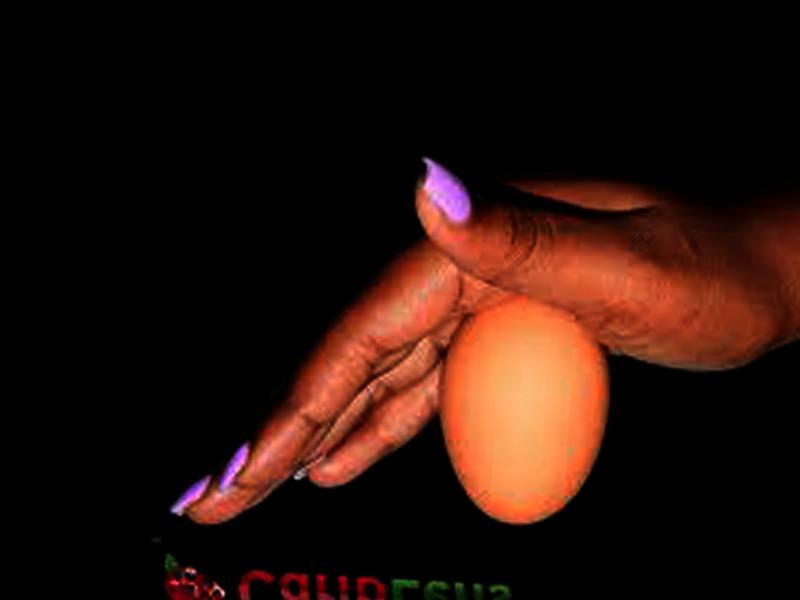Eggs: (430, 295, 616, 531)
